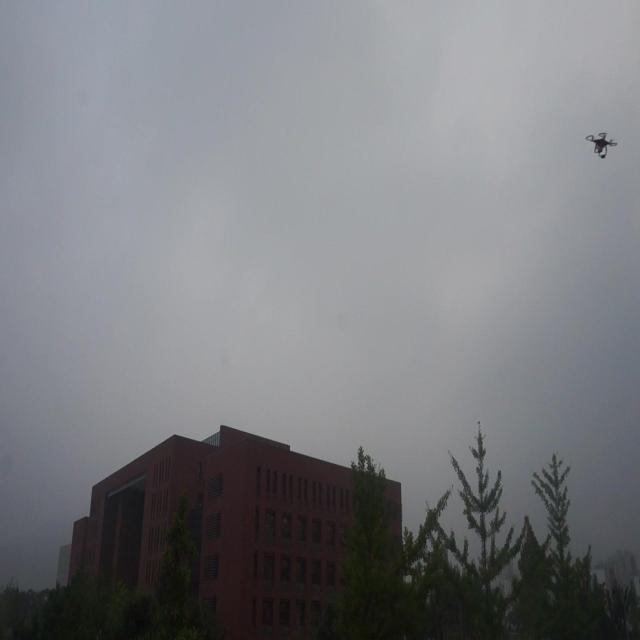drone: (585, 128, 621, 164)
